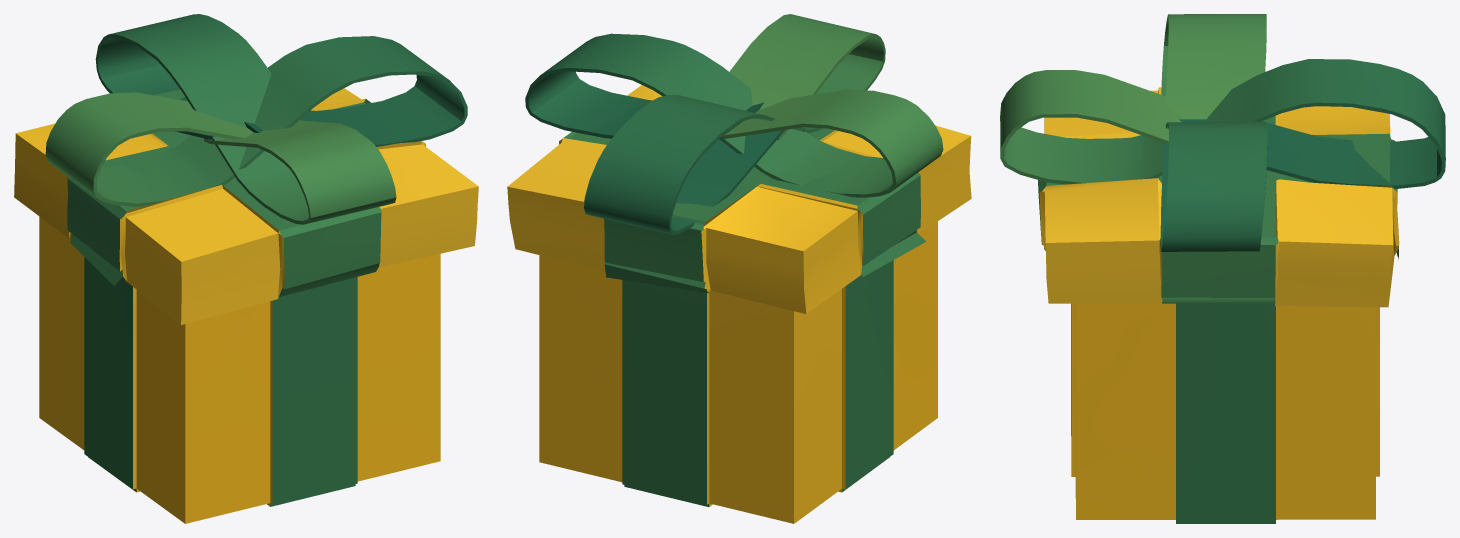
The model's file is GiftBox6.fbx.
3 views of the same model, side by side, from view 1: azimuth 30°, elevation 25°; view 2: azimuth 150°, elevation 25°; view 3: azimuth 270°, elevation 25° (orthographic). The views are drawn at different scales.
Parts seen in each view (by area): view 1: Christmas Gift; view 2: Christmas Gift; view 3: Christmas Gift.
Part boxes in pixels (x1,y1,x2,y2): Christmas Gift: [14, 14, 478, 523]; Christmas Gift: [507, 14, 971, 523]; Christmas Gift: [1000, 14, 1445, 523].
Bounding box in the file's own units: 1306 × 1225 × 1306.
